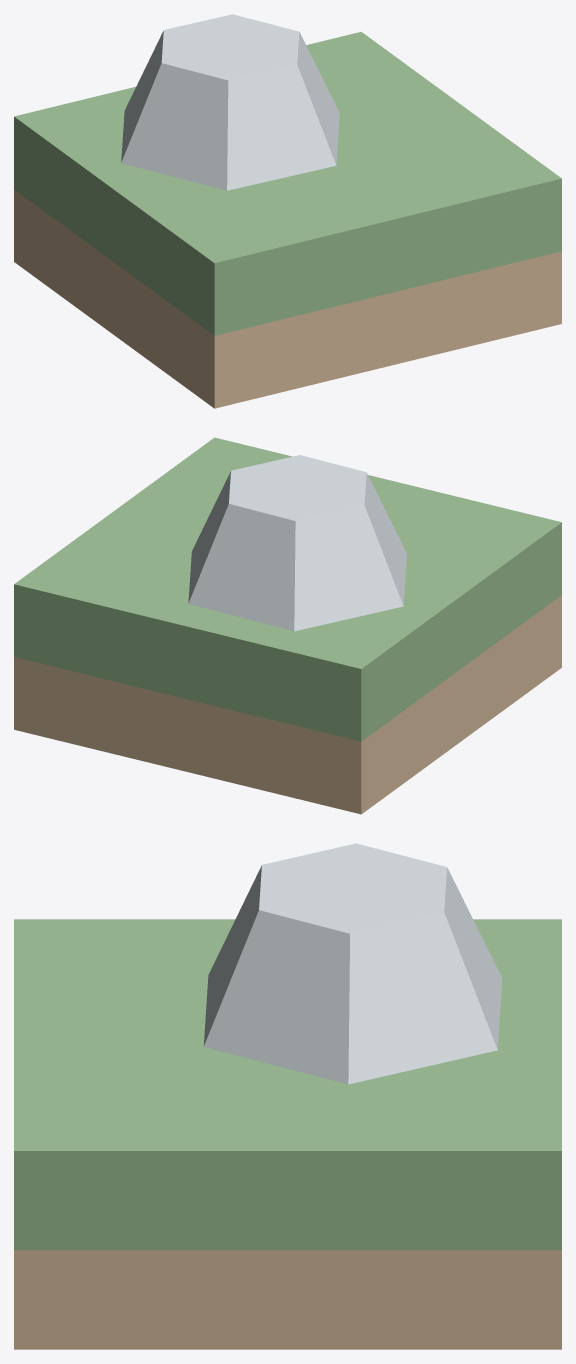
The model's file is tile_077.gltf.
3 renders of one model, top to bottom at view 1: azimuth 30°, elevation 25°; view 2: azimuth 150°, elevation 25°; view 3: azimuth 270°, elevation 25°, orthographic. The views are drawn at different scales.
Parts seen in each view (by area): view 1: tile_077, Group; view 2: tile_077, Group; view 3: tile_077, Group.
Boxes of the visible parts, left/top/right/bottom form: tile_077: left=14, top=31, right=561, bottom=408; Group: left=121, top=14, right=339, bottom=190; tile_077: left=14, top=437, right=561, bottom=814; Group: left=188, top=455, right=406, bottom=631; tile_077: left=14, top=919, right=561, bottom=1349; Group: left=203, top=843, right=502, bottom=1084.
Size of the model in its own units: 1 by 0.65 by 1.
